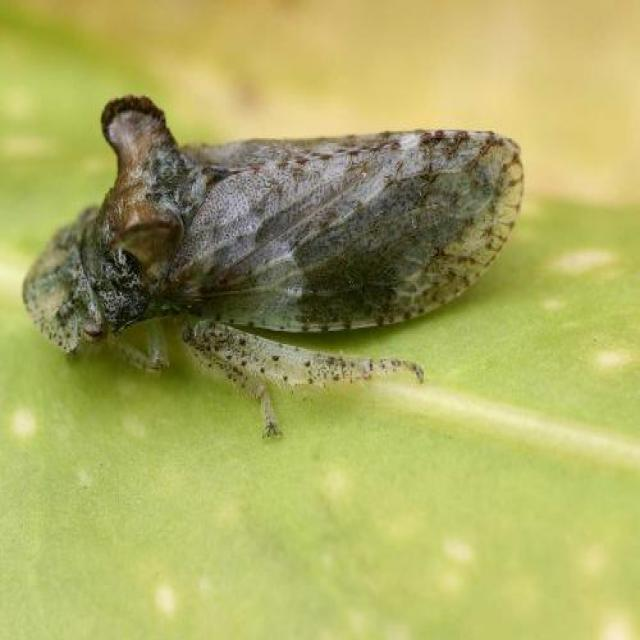Yechan: (27, 88, 544, 443)
